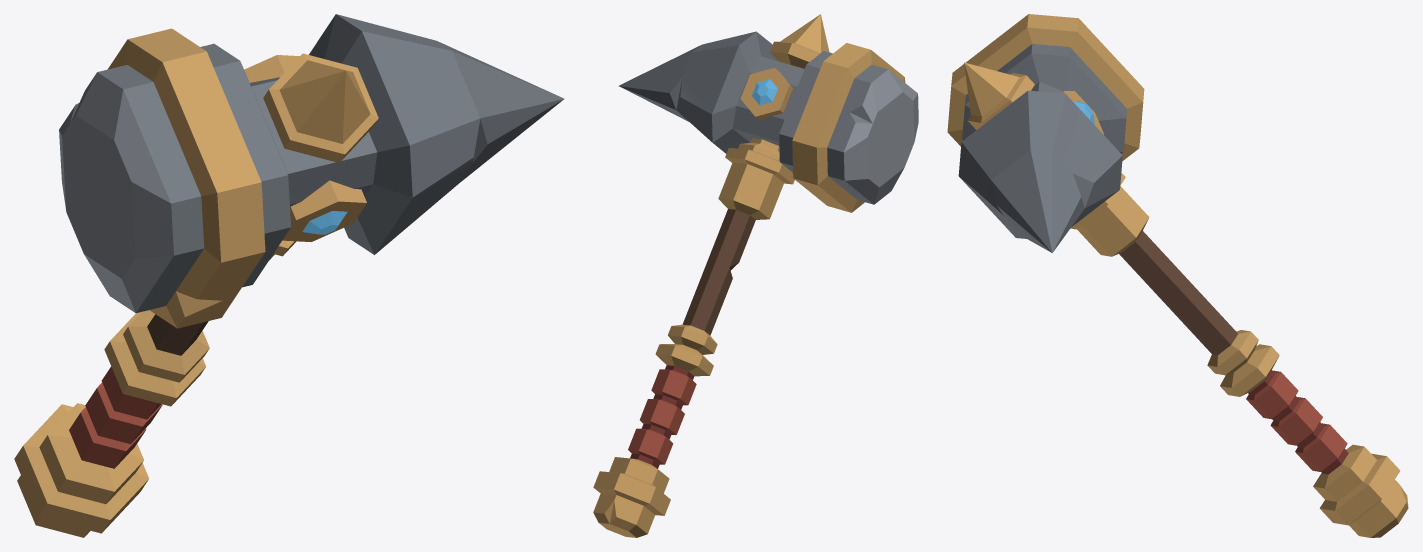
The model's file is dr-warhammer-small-02.glb.
The picture shows the model from 3 angles, left to right: view 1: azimuth 30°, elevation 25°; view 2: azimuth 150°, elevation 25°; view 3: azimuth 270°, elevation 25°; orthographic projection. The views are drawn at different scales.
Parts seen in each view (by area): view 1: dr-warhammer-small-02; view 2: dr-warhammer-small-02; view 3: dr-warhammer-small-02.
Part boxes in pixels (box(x1,y1,x2,y2)): dr-warhammer-small-02: box(14, 14, 564, 537); dr-warhammer-small-02: box(593, 14, 918, 537); dr-warhammer-small-02: box(947, 14, 1408, 537).
Bounding box in the file's own units: 0.4222 × 0.5961 × 0.5325.
1 material, 1 textured.
